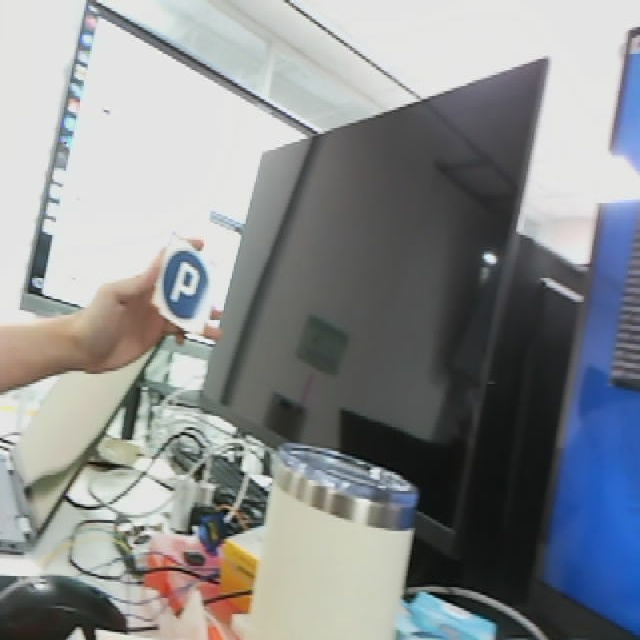parking: (147, 230, 219, 338)
